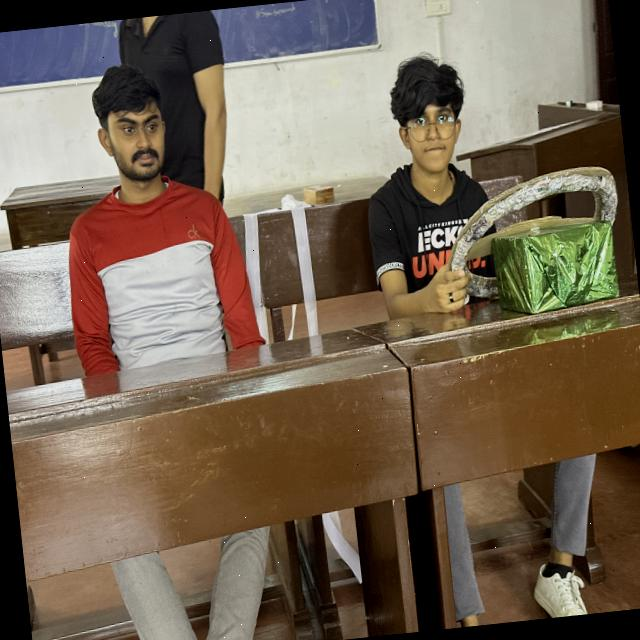no-seatbelt: (56, 177, 271, 390), (354, 155, 516, 344)
